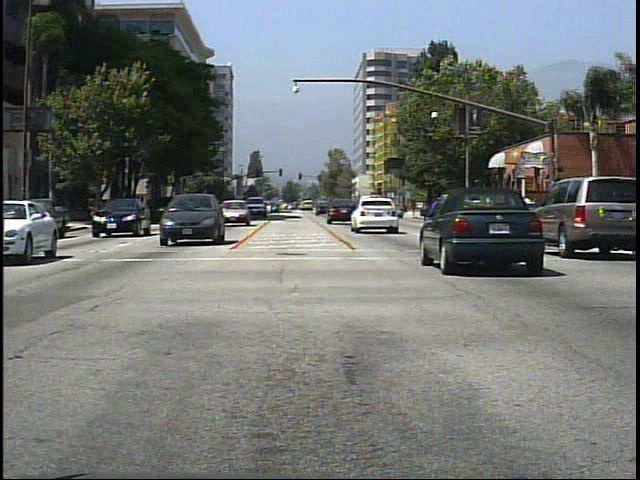person: (487, 189, 505, 225), (519, 195, 537, 229)
